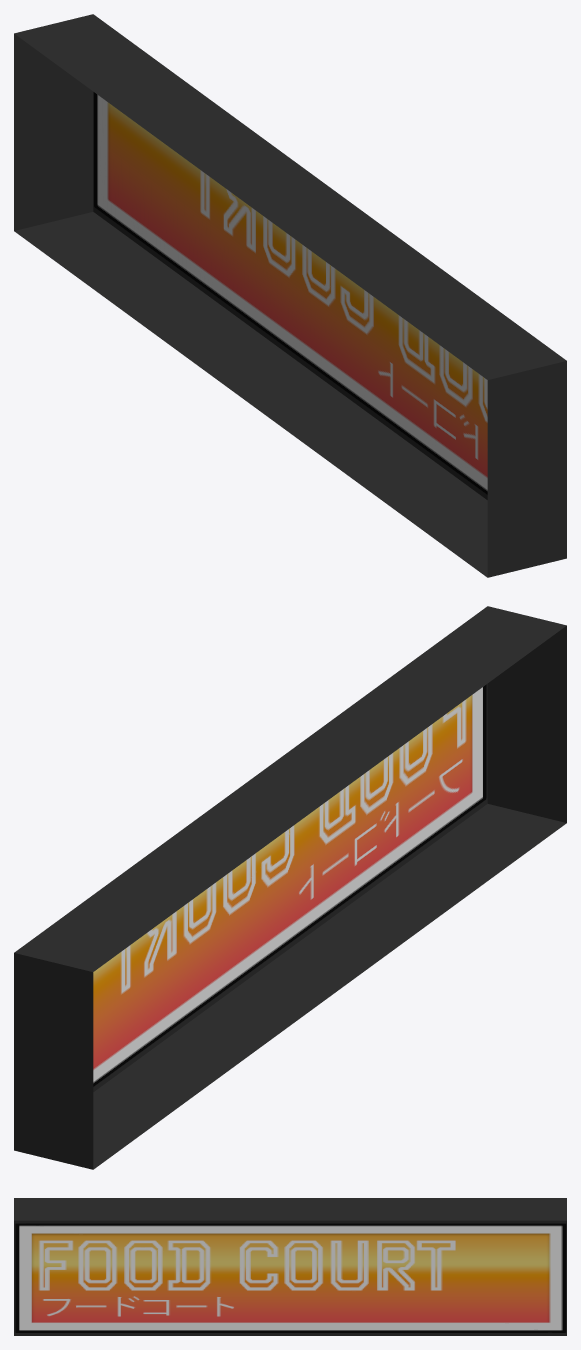
Rendered from FoodCourt 1.fbx.
3 views of the same model, one above another, from view 1: azimuth 30°, elevation 25°; view 2: azimuth 150°, elevation 25°; view 3: azimuth 270°, elevation 25° (orthographic). The views are drawn at different scales.
Visible parts, largest first — view 1: Cube; view 2: Cube; view 3: Cube.
Boxes of the visible parts, x1,y1,x2,y2 form: Cube: [14, 14, 566, 577]; Cube: [14, 606, 566, 1169]; Cube: [14, 1198, 566, 1335].
Bounding box in the file's own units: 82.82 × 197 × 857.
